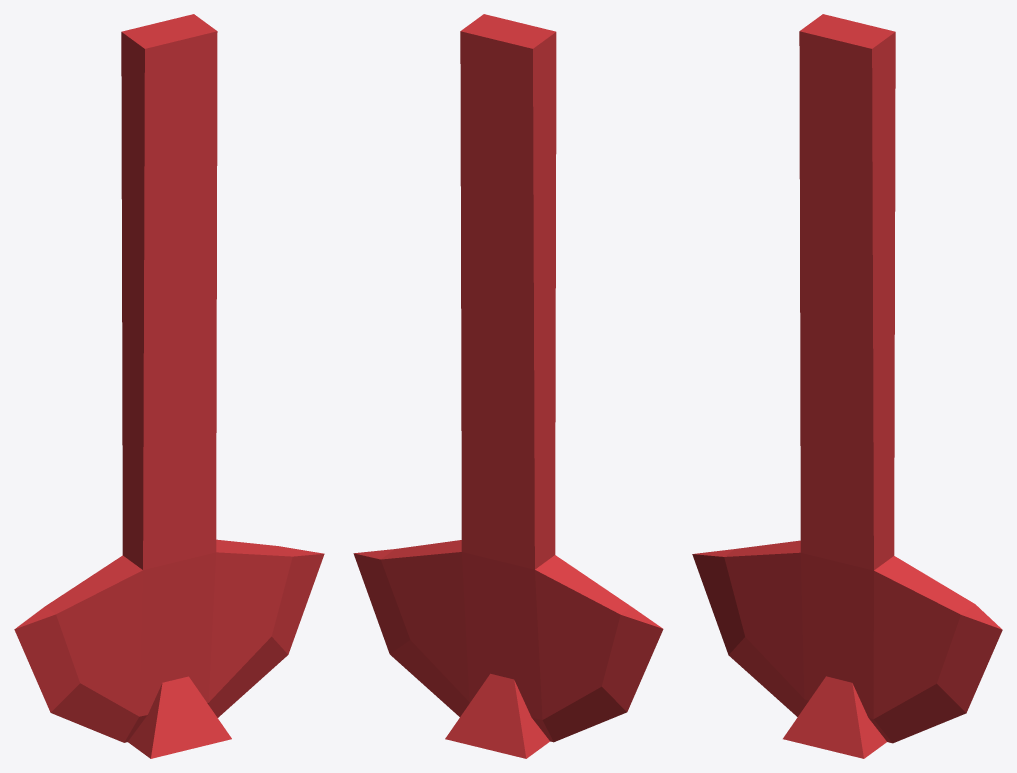
The model's file is 9.Spikes_New.fbx.
The picture shows the model from 3 angles, left to right: view 1: azimuth 30°, elevation 25°; view 2: azimuth 150°, elevation 25°; view 3: azimuth 330°, elevation 25°; orthographic projection.
Visible parts, largest first — view 1: Spike2, Spike2.001, Spike1; view 2: Spike2, Spike2.001, Spike1; view 3: Spike2, Spike2.001, Spike1.
Part boxes in pixels (x1,y1,x2,y2): Spike2: (121,14,217,569); Spike2.001: (14,539,324,742); Spike1: (128,676,231,758); Spike2: (460,14,556,569); Spike2.001: (353,540,663,742); Spike1: (445,673,549,758); Spike2: (799,14,895,570); Spike2.001: (692,540,1002,743); Spike1: (783,676,886,758).
Bounding box in the file's own units: 0.3109 × 0.6704 × 0.0816.
